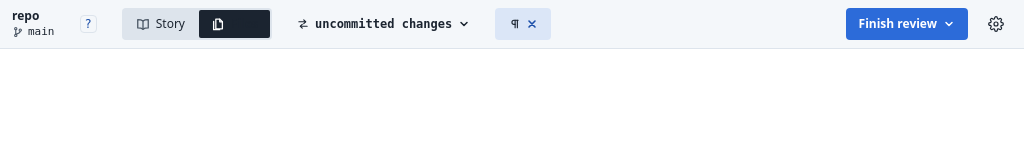
Scenario: the settings › say in the header that whitespace is hidden, and show it again when that is pressed
The image size is (1024, 160).
Click the button with test id "whitespace-hidden" at (523, 24), box top-left (495, 8), bottom-right (551, 40)
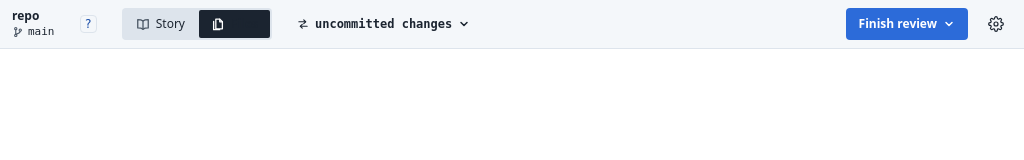
Now the button with test id "whitespace-hidden" is gone
